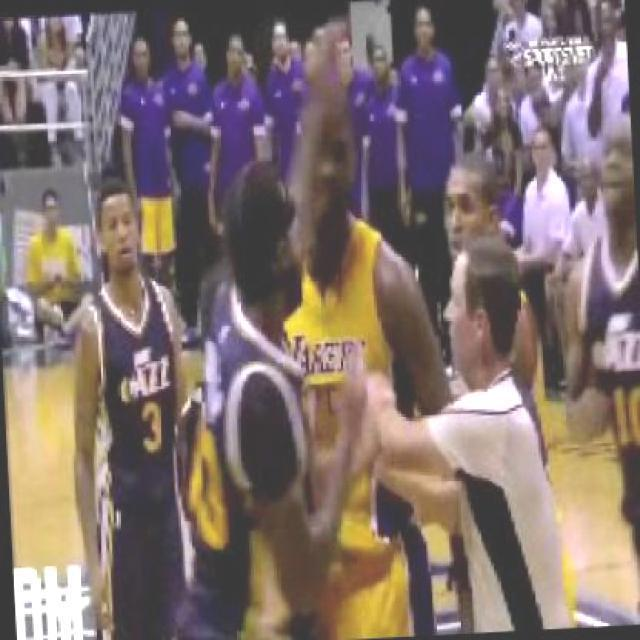fight: (152, 41, 457, 638)
